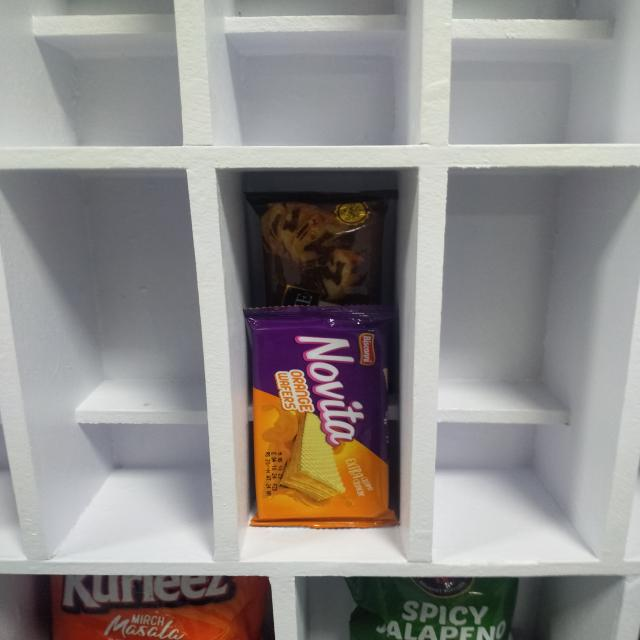Plastic: (248, 317, 394, 525), (248, 189, 394, 310), (36, 573, 272, 640), (345, 574, 517, 640)
